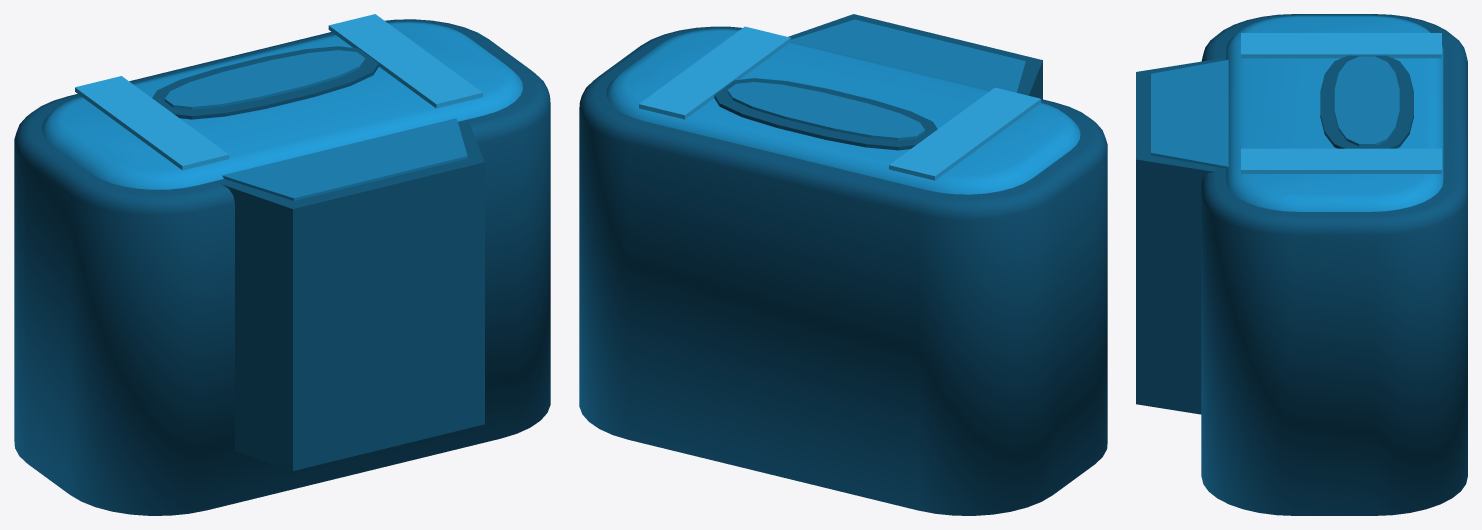
The model's file is bag_padrao_ciano.fbx.
3 renders of one model, left to right at view 1: azimuth 30°, elevation 25°; view 2: azimuth 150°, elevation 25°; view 3: azimuth 270°, elevation 25°, orthographic. The views are drawn at different scales.
Visible parts, largest first — view 1: bag_padrao_ciano_mochila; view 2: bag_padrao_ciano_mochila; view 3: bag_padrao_ciano_mochila.
Part boxes in pixels (bbox=[...]): bag_padrao_ciano_mochila: bbox=[14, 14, 550, 515]; bag_padrao_ciano_mochila: bbox=[579, 14, 1107, 515]; bag_padrao_ciano_mochila: bbox=[1136, 14, 1467, 515].
Bounding box in the file's own units: 2.8 × 1.9 × 1.84.
Materials: 1 (1 with a texture image).
